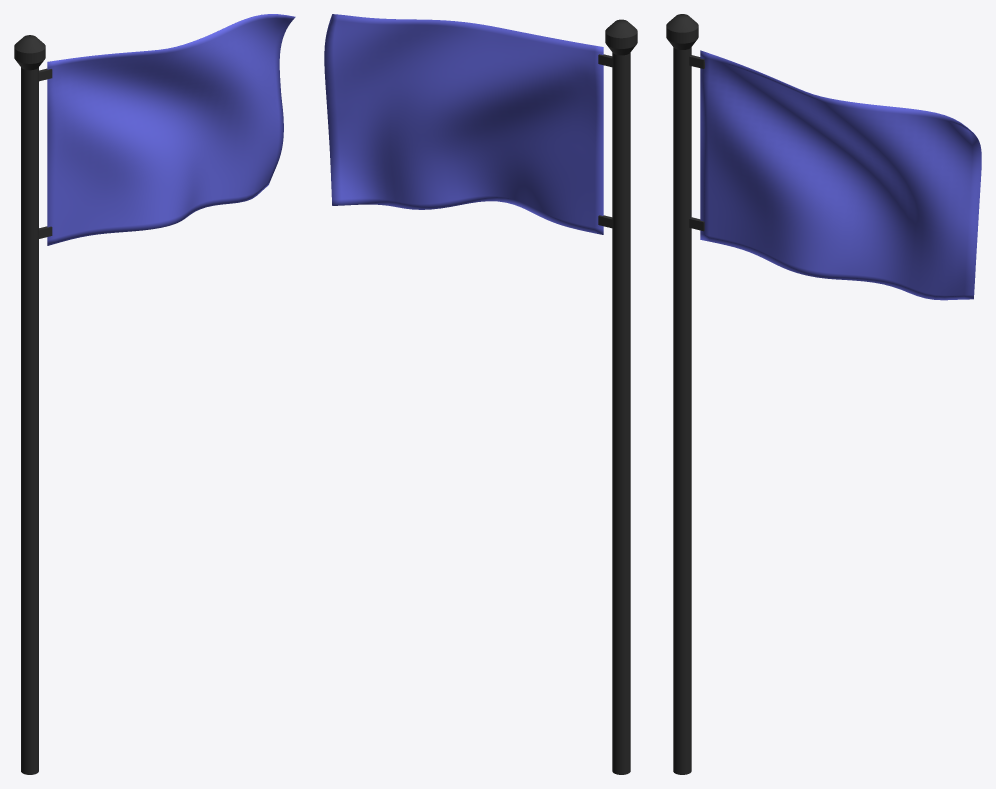
The model's file is Flag.glb.
3 views of the same model, side by side, from view 1: azimuth 30°, elevation 25°; view 2: azimuth 150°, elevation 25°; view 3: azimuth 330°, elevation 25° (orthographic). The views are drawn at different scales.
Visible parts, largest first — view 1: Flag_of_Portugal.svg, Cylinder; view 2: Flag_of_Portugal.svg, Cylinder; view 3: Flag_of_Portugal.svg, Cylinder.
Part boxes in pixels (x1,y1,x2,y2): Flag_of_Portugal.svg: (47, 14, 295, 245); Cylinder: (14, 35, 45, 774); Flag_of_Portugal.svg: (324, 14, 603, 234); Cylinder: (605, 19, 637, 774); Flag_of_Portugal.svg: (700, 50, 981, 300); Cylinder: (666, 14, 698, 774).
Size of the model in its own units: 1.64 by 3.98 by 0.3109.
